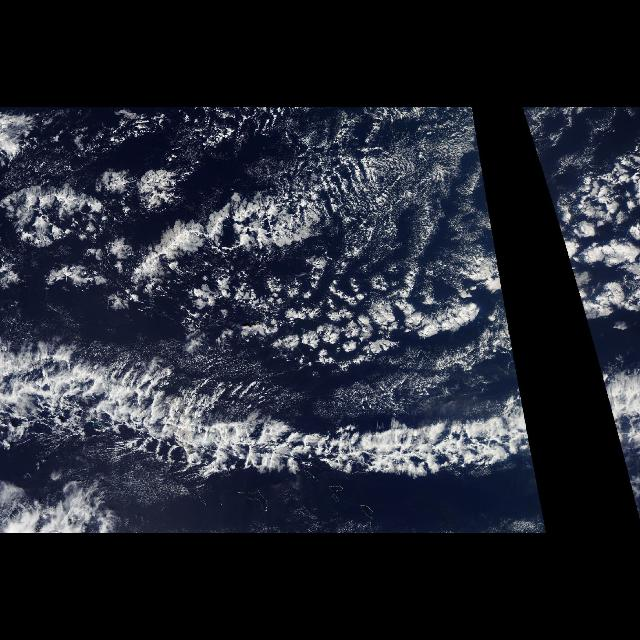Fish: (1, 330, 545, 516), (110, 206, 286, 286), (588, 338, 634, 504)
Flower: (191, 250, 521, 378), (553, 172, 637, 374)
Gravel: (232, 240, 514, 356)
Sugar: (290, 115, 494, 258), (266, 346, 522, 420), (524, 115, 580, 243)
